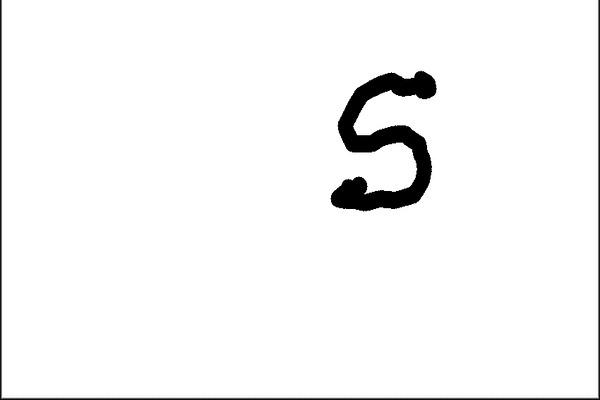S: (317, 63, 446, 224)
